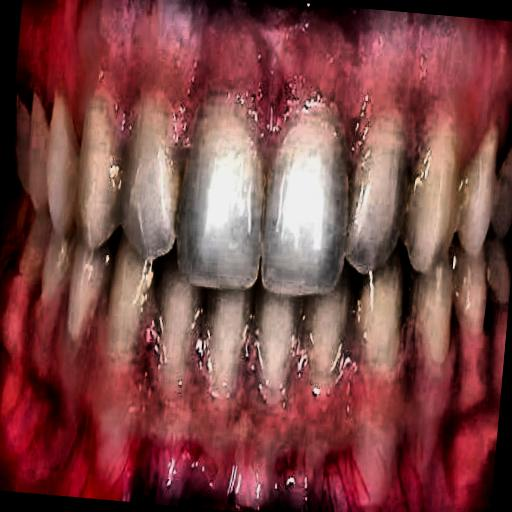Healthy: (7, 0, 486, 385)
